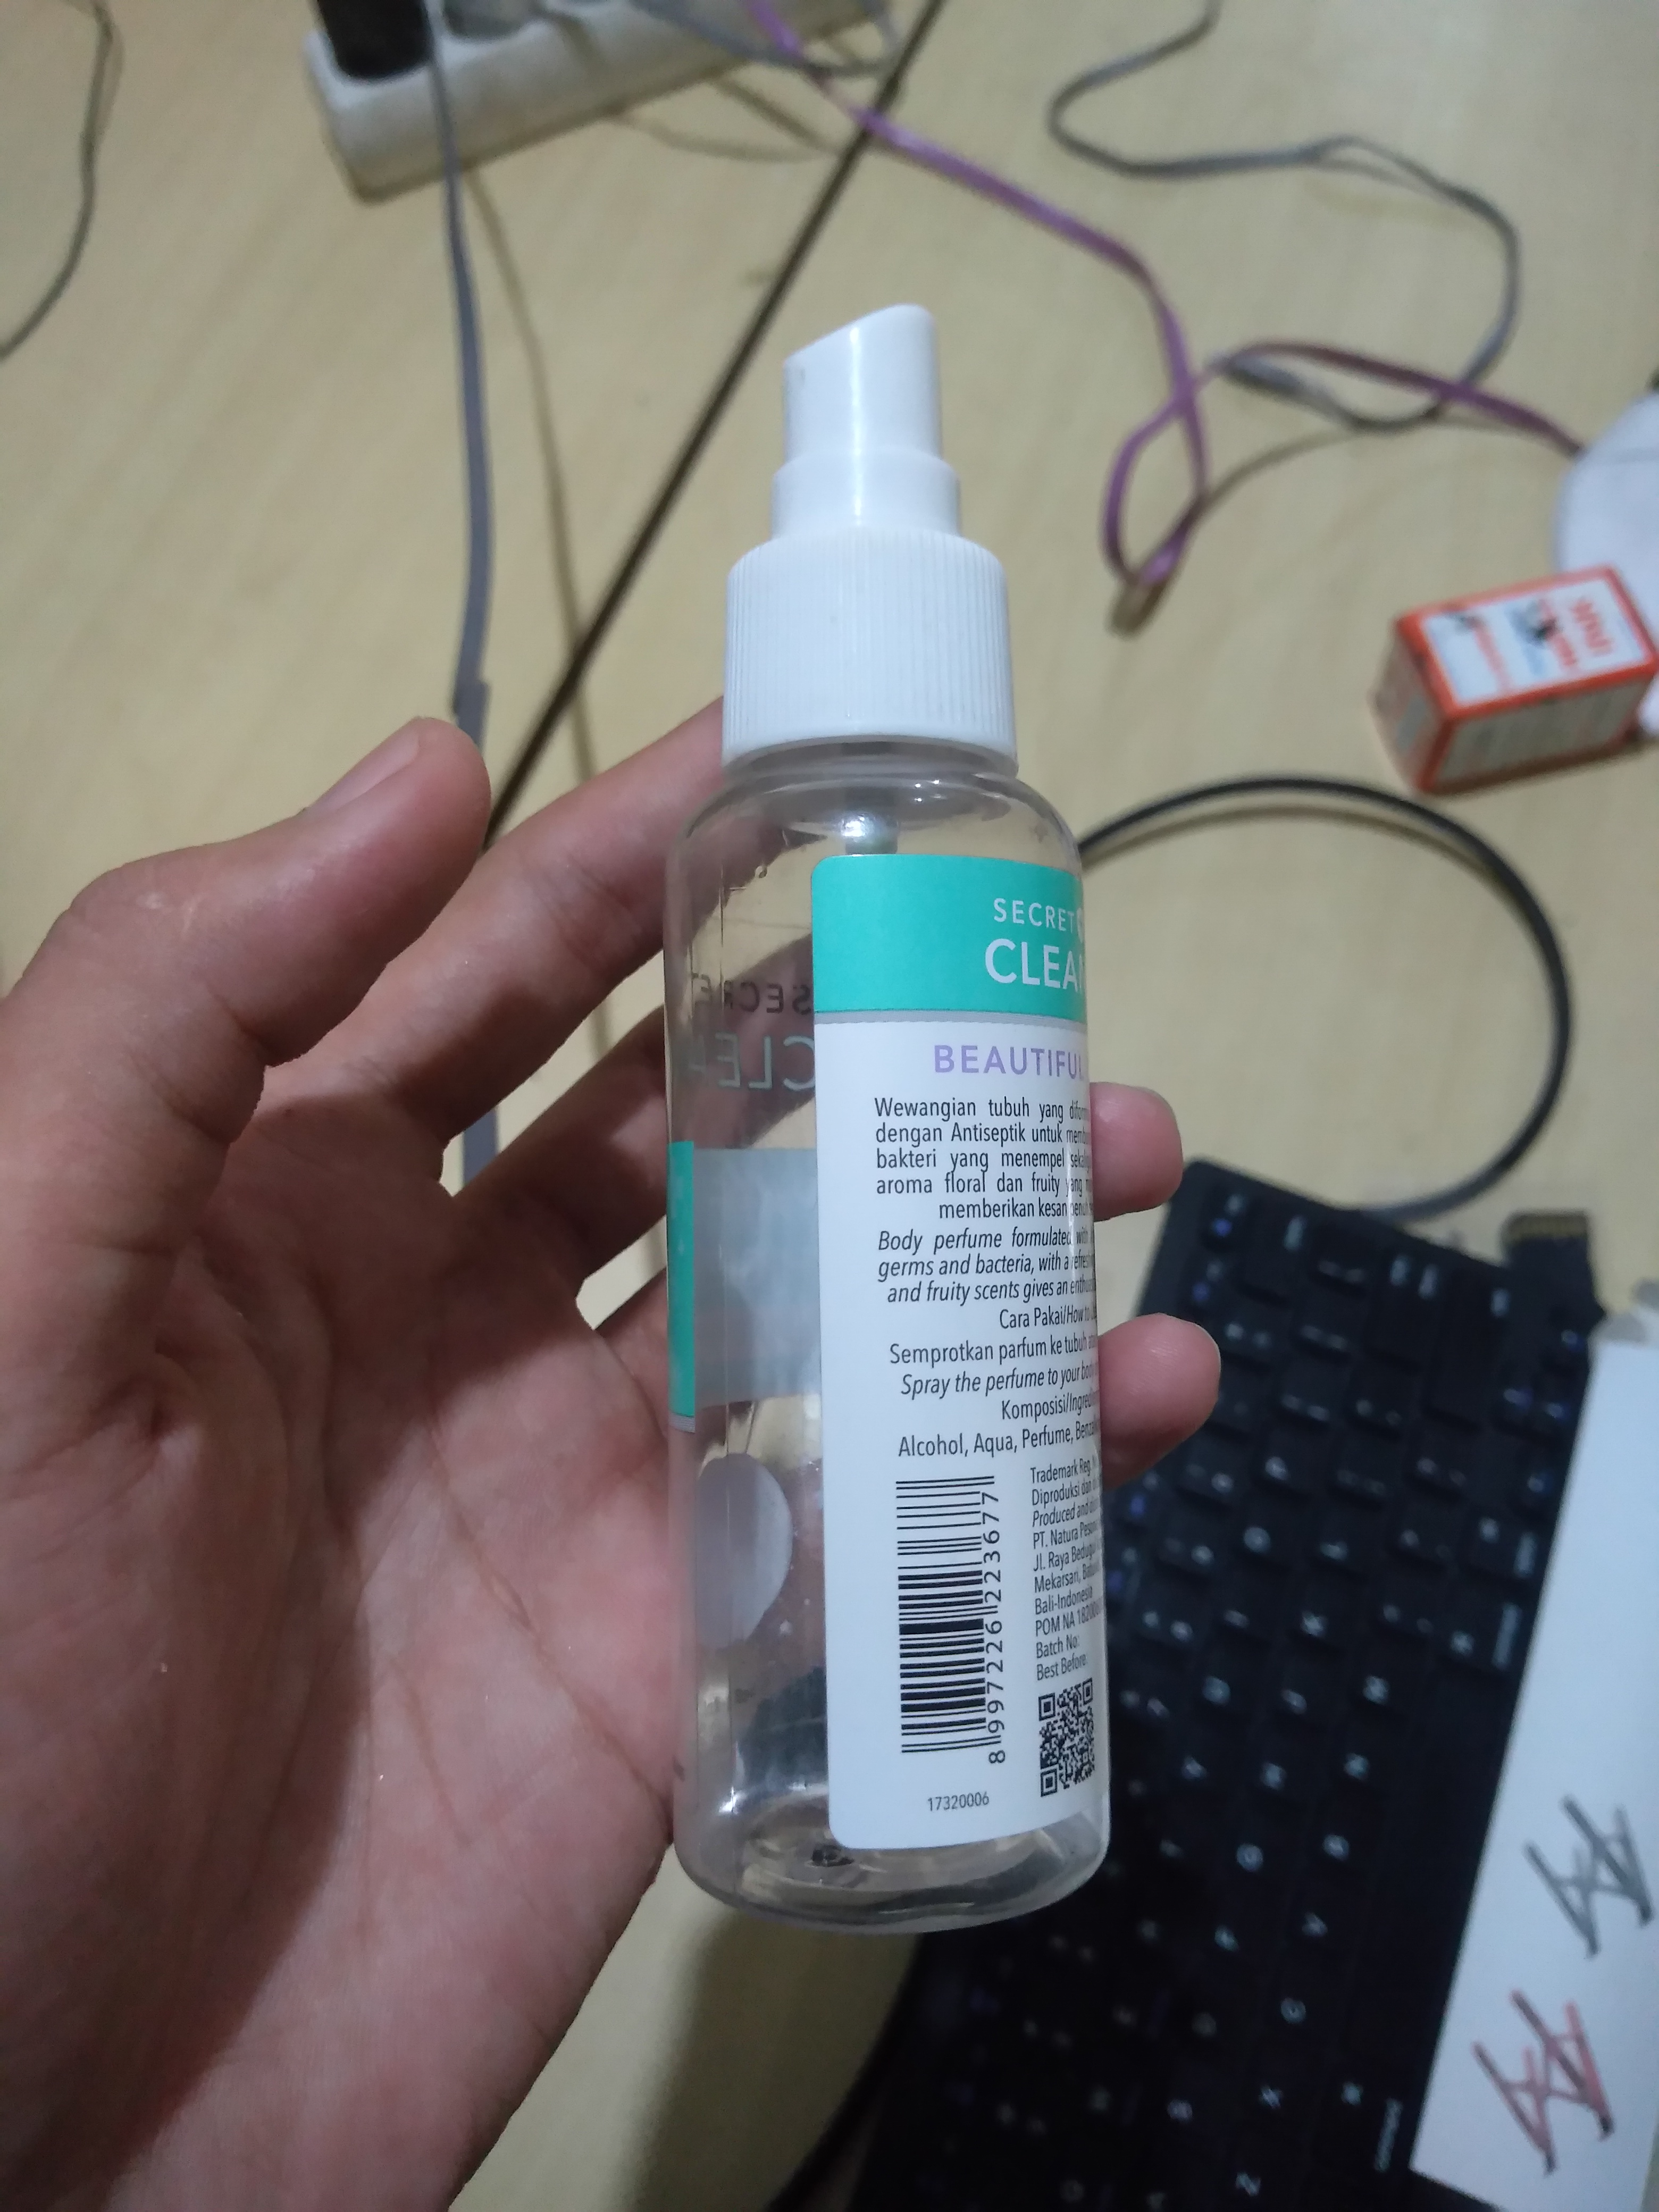hand sanitizer: (622, 310, 1140, 1958)
